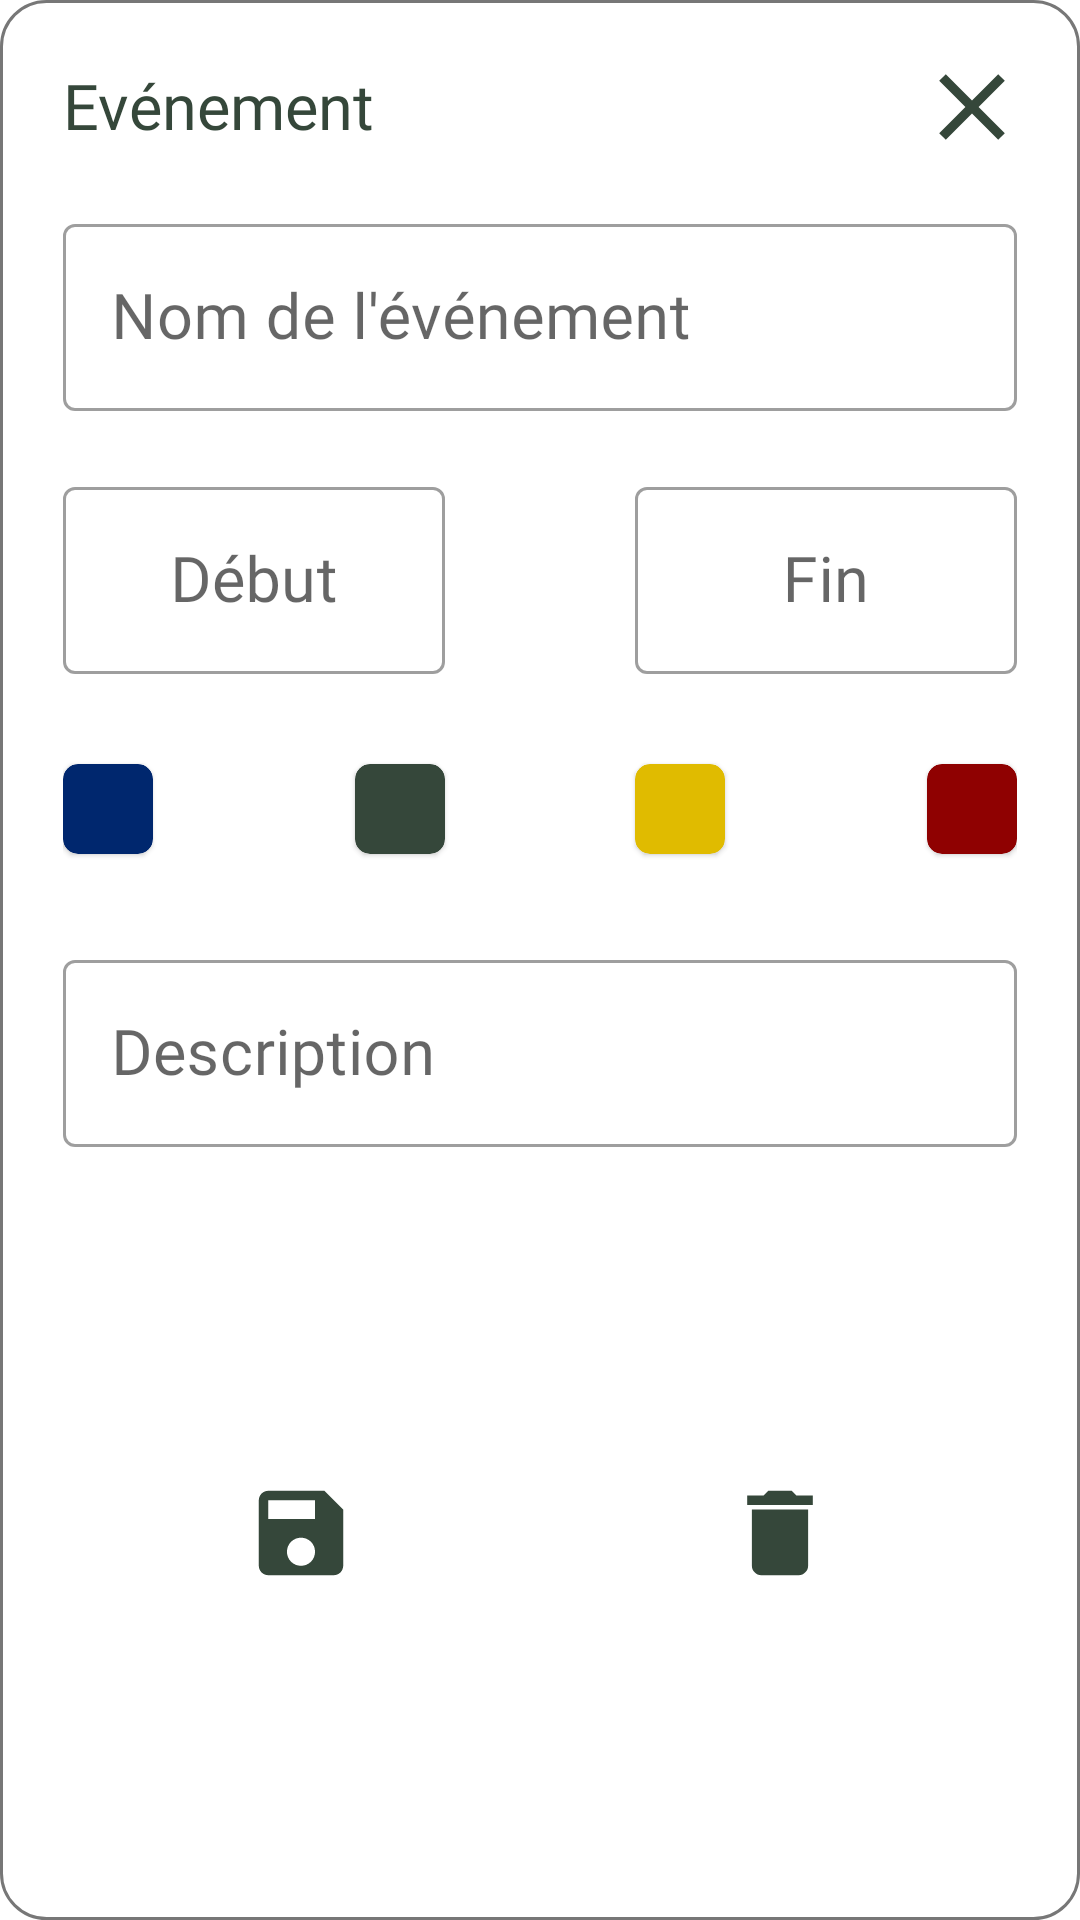

Icons on this 1080w x 1920h Android screen, each with its box as [x1, y1, x2, y2]:
close: [939, 74, 1005, 140]
delete: [747, 1490, 813, 1576]
save: [258, 1490, 344, 1576]
